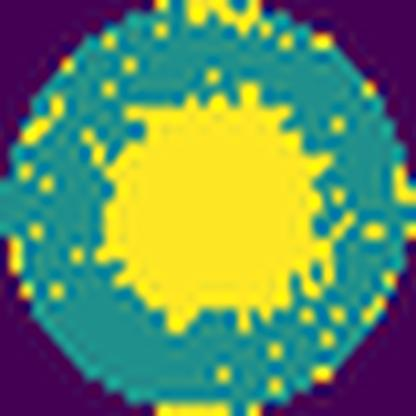Center: (83, 82, 356, 336)
